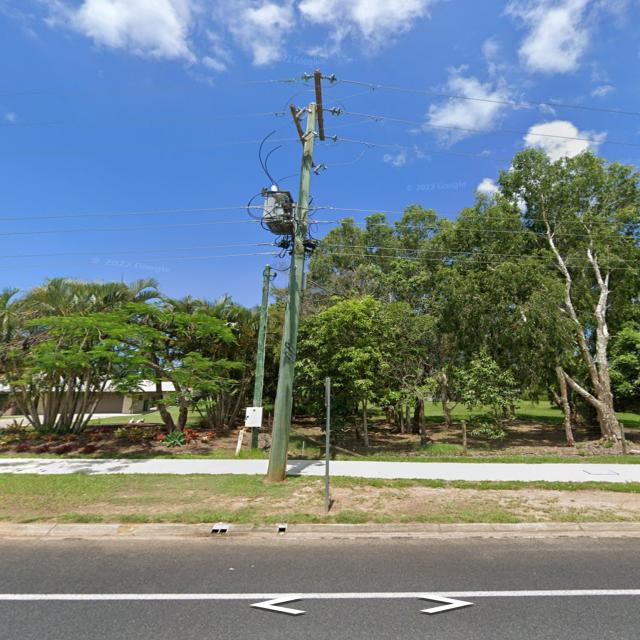HV-transmission: (275, 67, 342, 176)
LV link: (298, 218, 341, 225), (254, 250, 291, 255), (293, 206, 333, 210), (248, 218, 279, 223), (240, 205, 274, 209)
LV link box: (299, 236, 321, 249), (278, 235, 294, 249)
crossarm: (314, 68, 326, 142), (276, 202, 296, 241), (292, 105, 305, 145)
timber-pole: (265, 102, 317, 482), (249, 262, 272, 450)
transformer: (259, 185, 295, 235)
